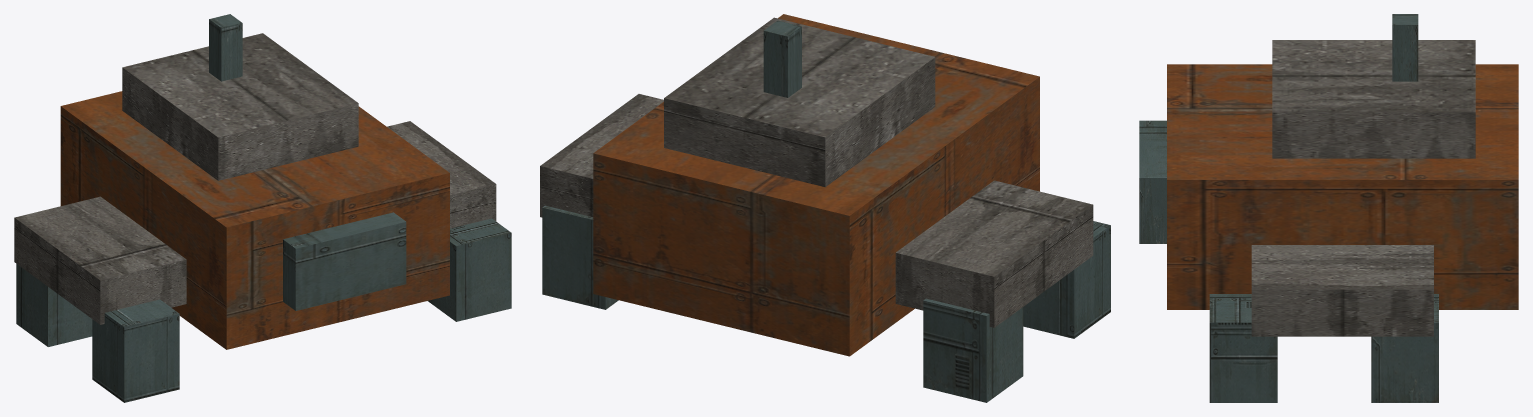
File: service-drone.gltf
3 views of the same model, side by side, from view 1: azimuth 30°, elevation 25°; view 2: azimuth 150°, elevation 25°; view 3: azimuth 270°, elevation 25° (orthographic). The views are drawn at different scales.
Parts seen in each view (by area): view 1: service-drone; view 2: service-drone; view 3: service-drone.
Part boxes in pixels (x1,y1,x2,y2): service-drone: (14, 14, 511, 402); service-drone: (540, 14, 1110, 402); service-drone: (1139, 14, 1518, 402).
Bounding box in the file's own units: 1.86 × 1.2 × 1.45.
Materials: 1 (1 with a texture image).
